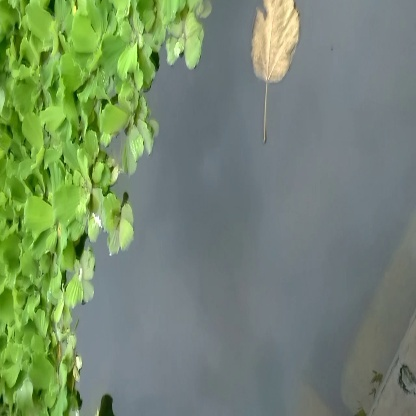leaf: (240, 1, 315, 145)
